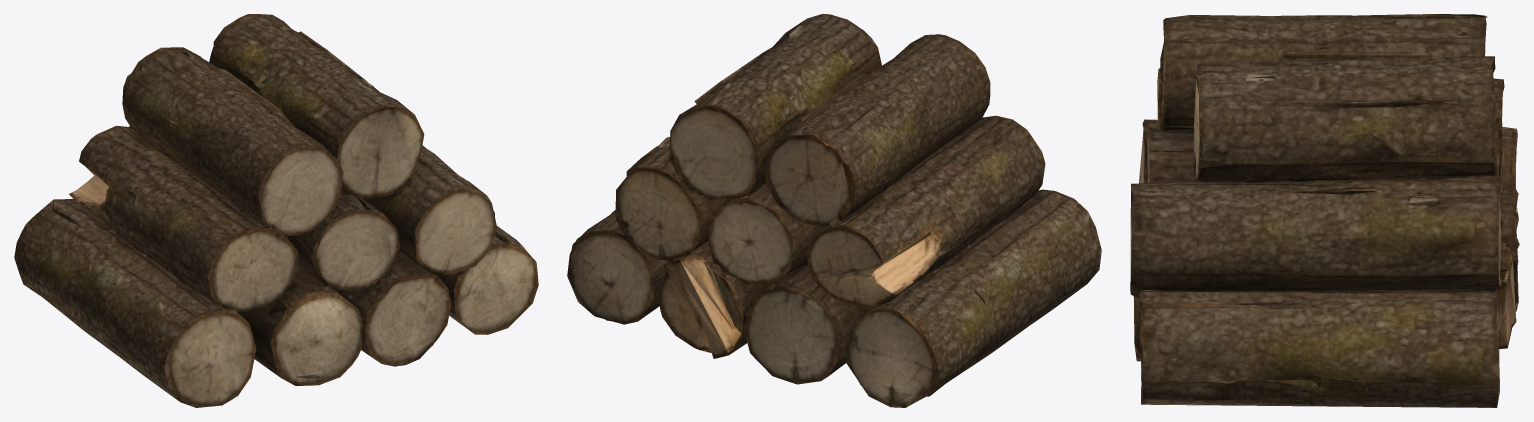
3 renders of one model, left to right at view 1: azimuth 30°, elevation 25°; view 2: azimuth 150°, elevation 25°; view 3: azimuth 270°, elevation 25°, orthographic. The views are drawn at different scales.
Parts seen in each view (by area): view 1: firewood-pile; view 2: firewood-pile; view 3: firewood-pile.
Boxes of the visible parts, x1,y1,x2,y2 form: firewood-pile: (14,14,538,407); firewood-pile: (567,14,1101,407); firewood-pile: (1130,14,1519,407).
Bounding box in the file's own units: 1.14 × 0.6971 × 0.8436.
1 material, 1 textured.
